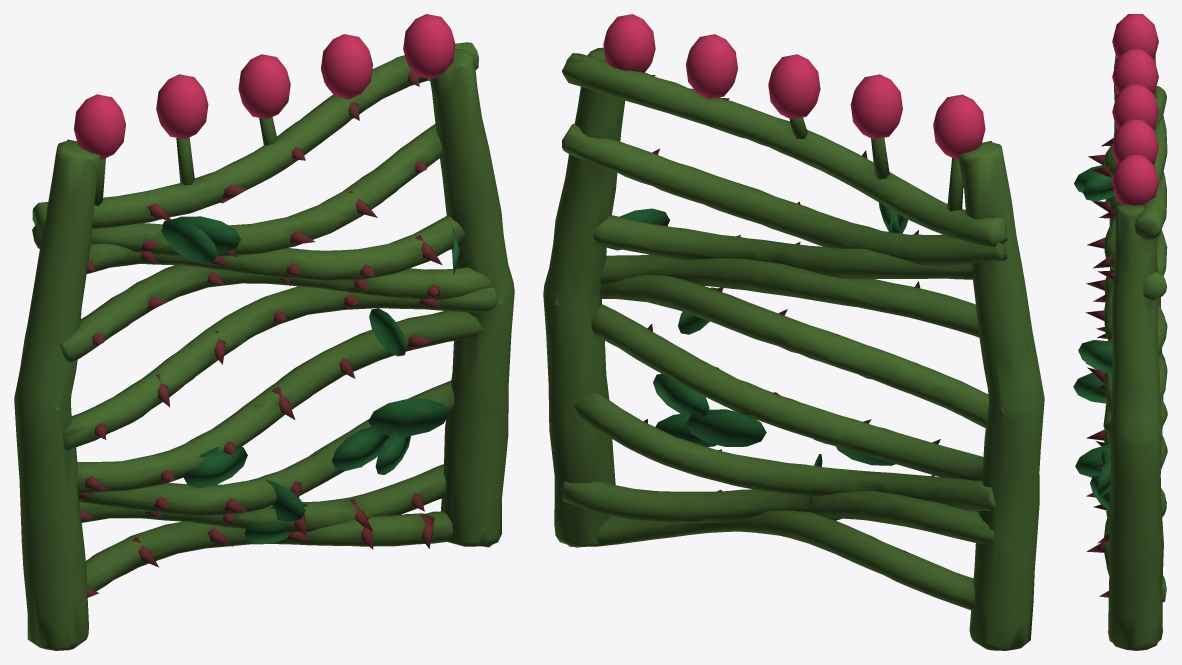
File: canopy_thorn_seal.glb
3 views of the same model, side by side, from view 1: azimuth 30°, elevation 25°; view 2: azimuth 150°, elevation 25°; view 3: azimuth 270°, elevation 25° (orthographic). The views are drawn at different scales.
Visible parts, largest first — view 1: canopy_thorn_seal; view 2: canopy_thorn_seal; view 3: canopy_thorn_seal.
Boxes of the visible parts, bbox=[...] form: canopy_thorn_seal: bbox=[14, 14, 514, 650]; canopy_thorn_seal: bbox=[543, 14, 1044, 650]; canopy_thorn_seal: bbox=[1073, 14, 1167, 650].
Size of the model in its own units: 9.57 by 9.98 by 1.82.
